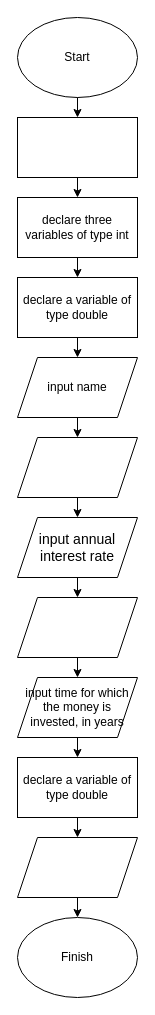
The diagram is 155 pixels wide and 1015 high, and some of its shapes have lost their labels. Here are the shapes that lost their labels. From the top down, the centre of each, then its label:
the point at 77,147: declare an array
the point at 77,467: input the principal amount of the investment
the point at 77,627: input the number of interest charges per year
the point at 77,867: output total investment amount
